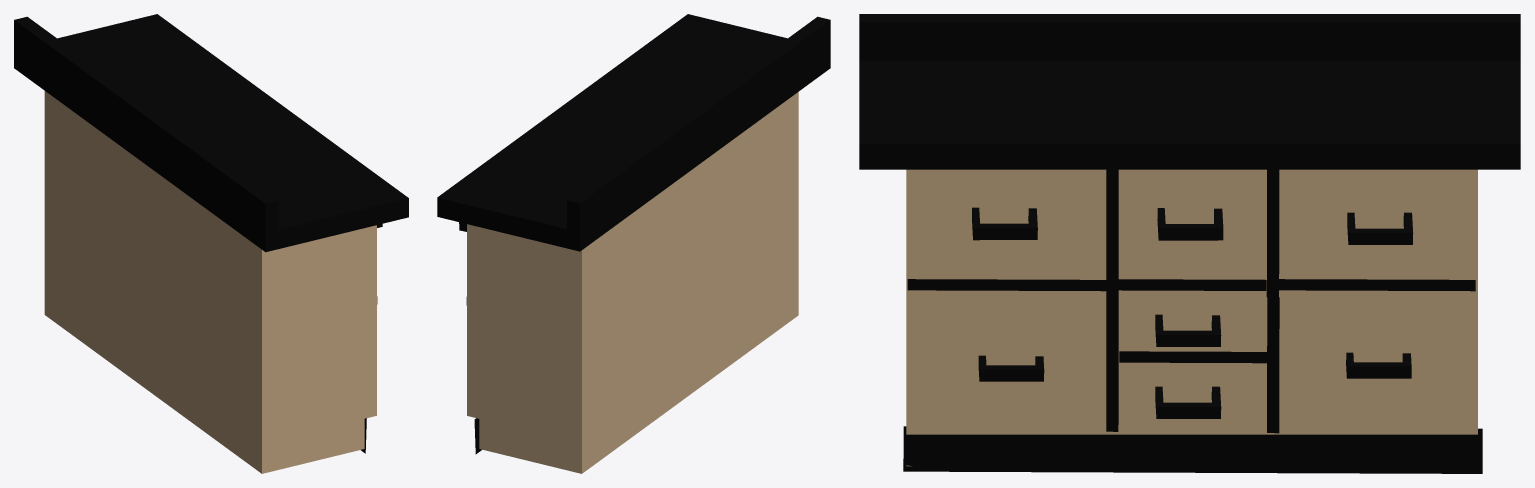
The model's file is counter2.glb.
3 views of the same model, side by side, from view 1: azimuth 30°, elevation 25°; view 2: azimuth 150°, elevation 25°; view 3: azimuth 270°, elevation 25° (orthographic). The views are drawn at different scales.
Parts seen in each view (by area): view 1: Cube-col, Plane-col; view 2: Cube-col, Plane-col; view 3: Cube-col, Plane-col, Plane.001-col, Plane.002-col, Plane.003-col, Plane.008-col, Plane.007-col, Plane.009-col, Plane.005-col, Plane.004-col, Plane.006-col, Cube.004-col (+6 smaller).
Boxes of the visible parts, x1,y1,x2,y2 form: Cube-col: (44,91,376,473); Plane-col: (14,14,408,252); Cube-col: (467,92,798,473); Plane-col: (437,14,830,251); Cube-col: (906,169,1477,466); Plane-col: (859,14,1520,169); Plane.001-col: (903,426,1482,473); Plane.002-col: (907,279,1106,291); Plane.003-col: (1279,279,1475,291); Plane.008-col: (1118,279,1266,290); Plane.007-col: (1267,297,1279,433); Plane.009-col: (1119,351,1267,363); Plane.005-col: (1106,297,1118,431); Plane.004-col: (1106,169,1118,297); Plane.006-col: (1266,169,1279,297); Cube.004-col: (1157,208,1223,240).
Size of the model in its own units: 5.29 by 9.04 by 14.13.
